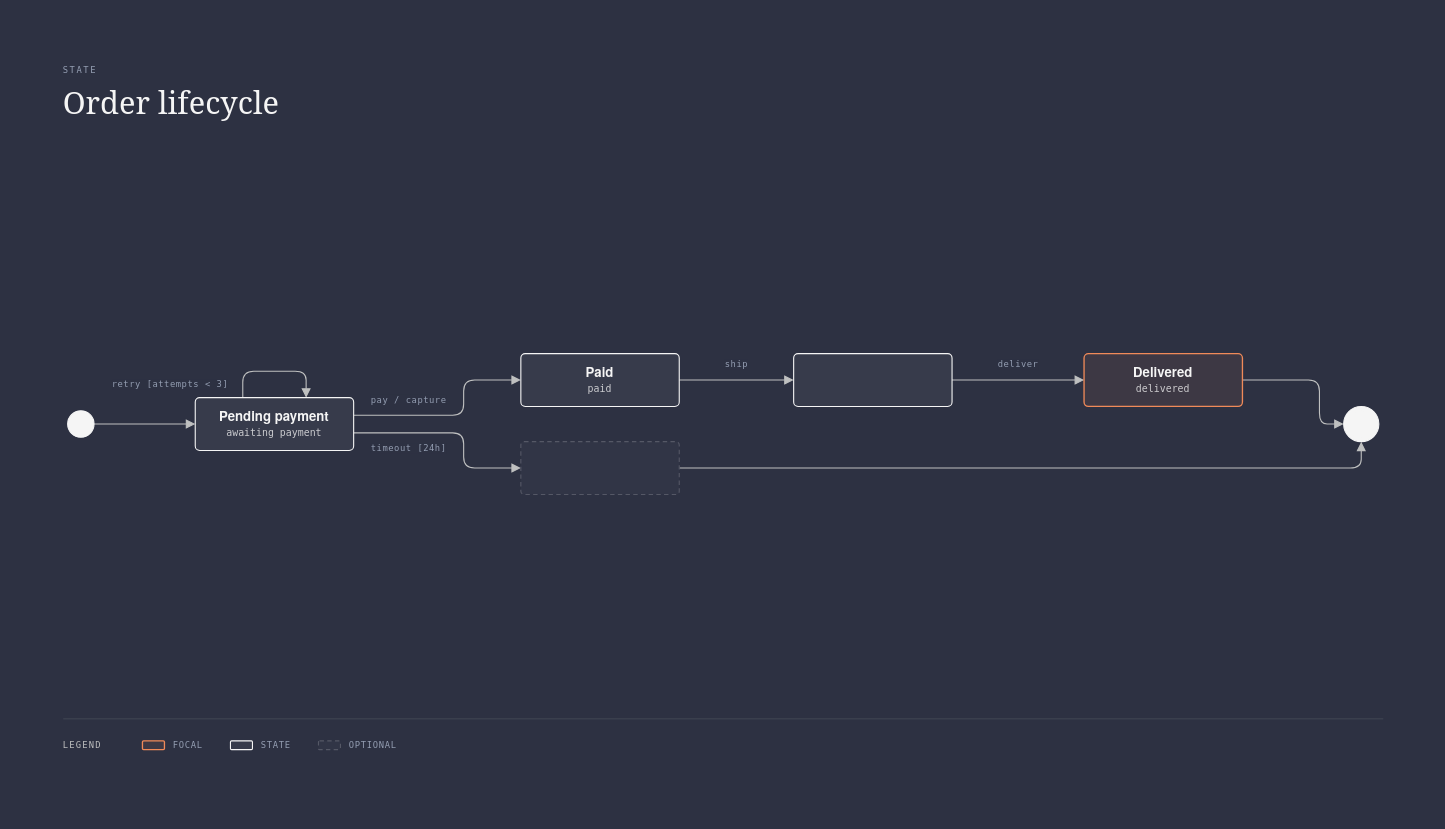
Image size: 1445x829. Some labels were removed from this diagram. The box of each missing label's shape, as (x1, y1, x2, y2) in pixels:
Cancelled cancelled: (520, 441, 679, 494)
Shipped in_transit: (793, 353, 952, 406)
